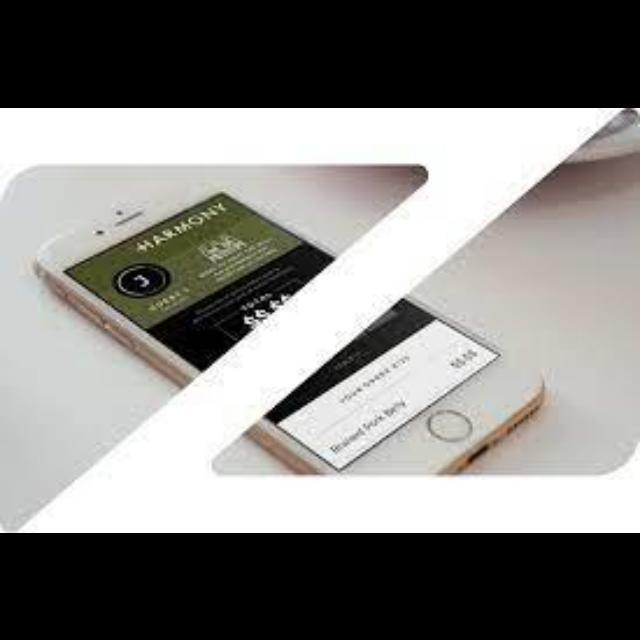Phone: (34, 174, 548, 468)
